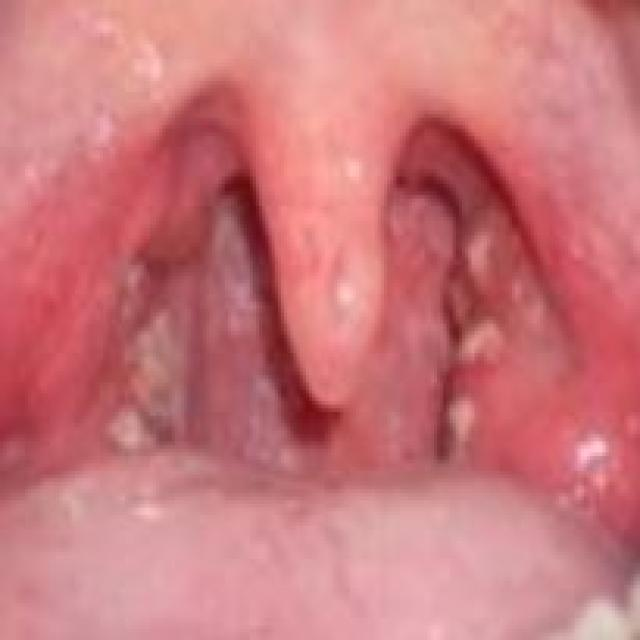pharyngitis: (465, 231, 640, 558), (107, 248, 228, 466)
